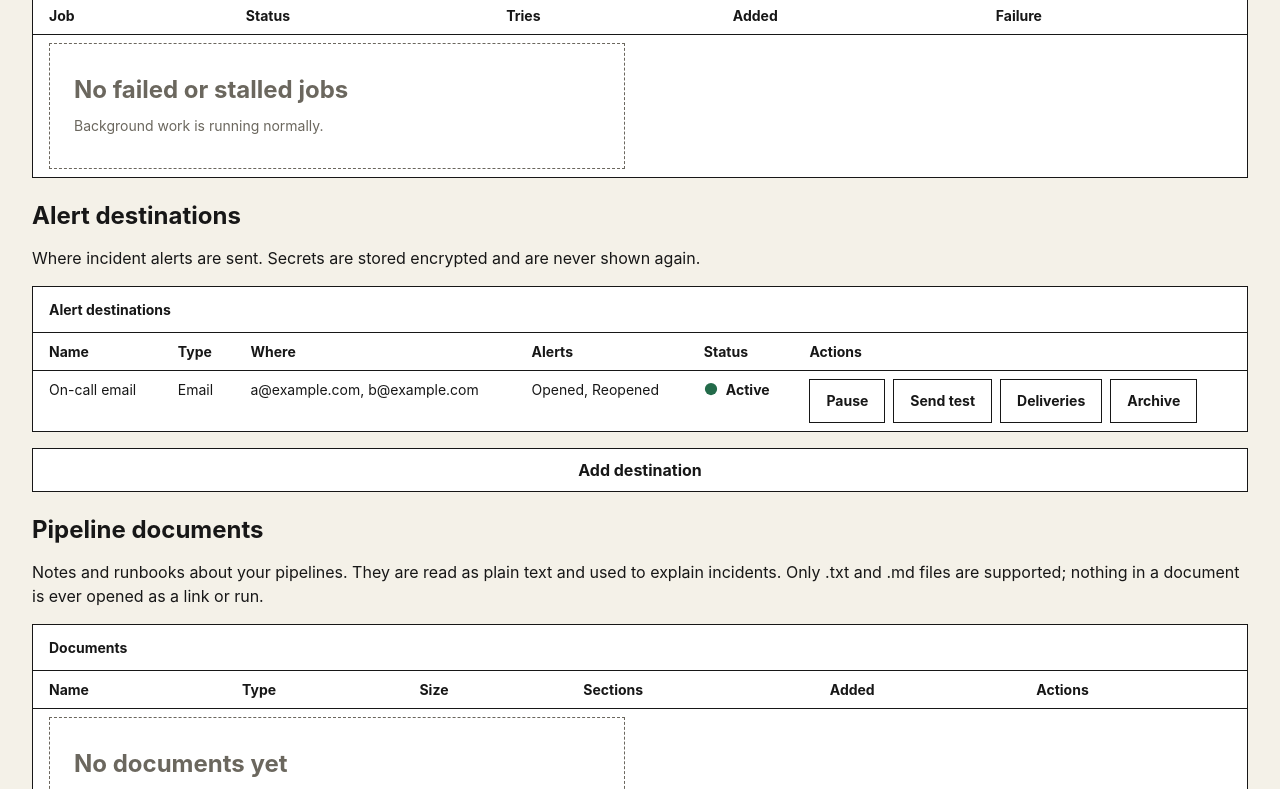
Alert destinations › explains a test sent too soon
(page scrolled)
Click the button with aria-label "Send test to On-call email": point(943, 401) left=893, top=379, right=992, bottom=423
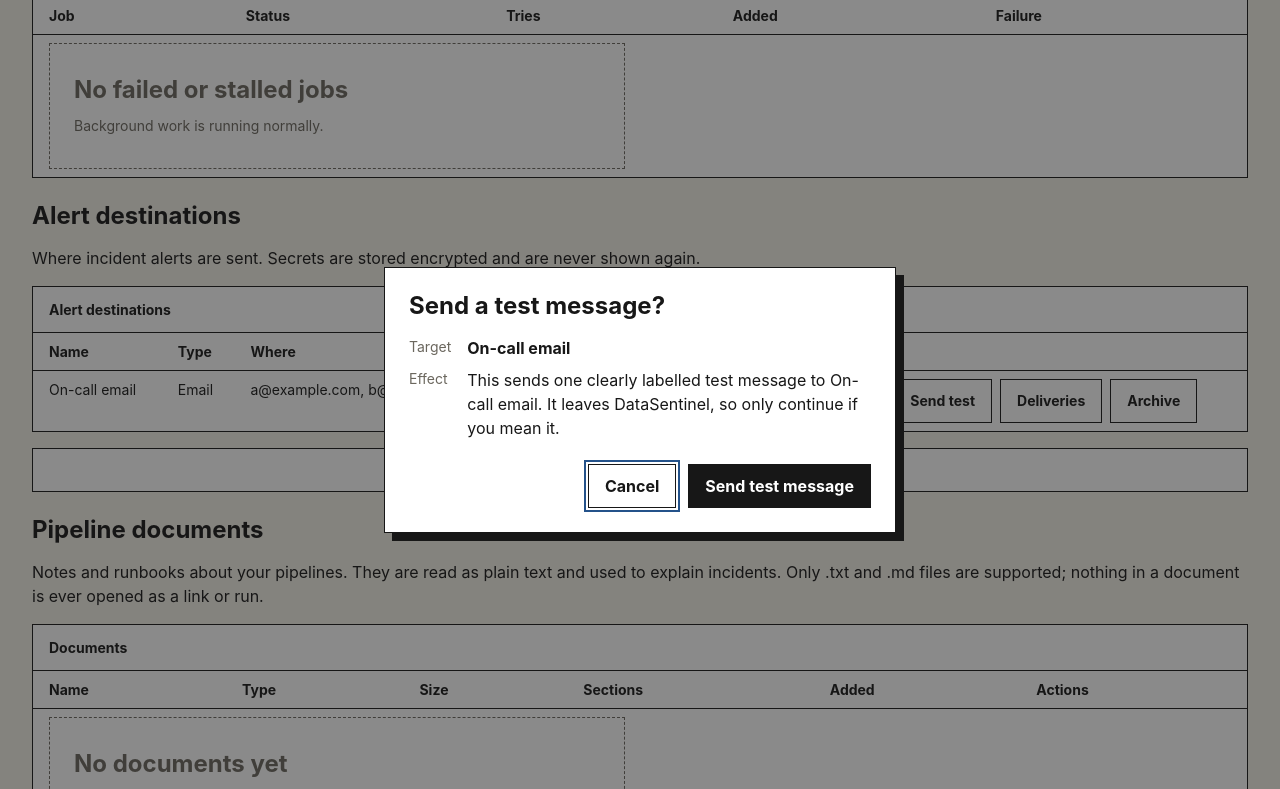
Click the button "Send test message": point(780, 486) left=688, top=464, right=871, bottom=508
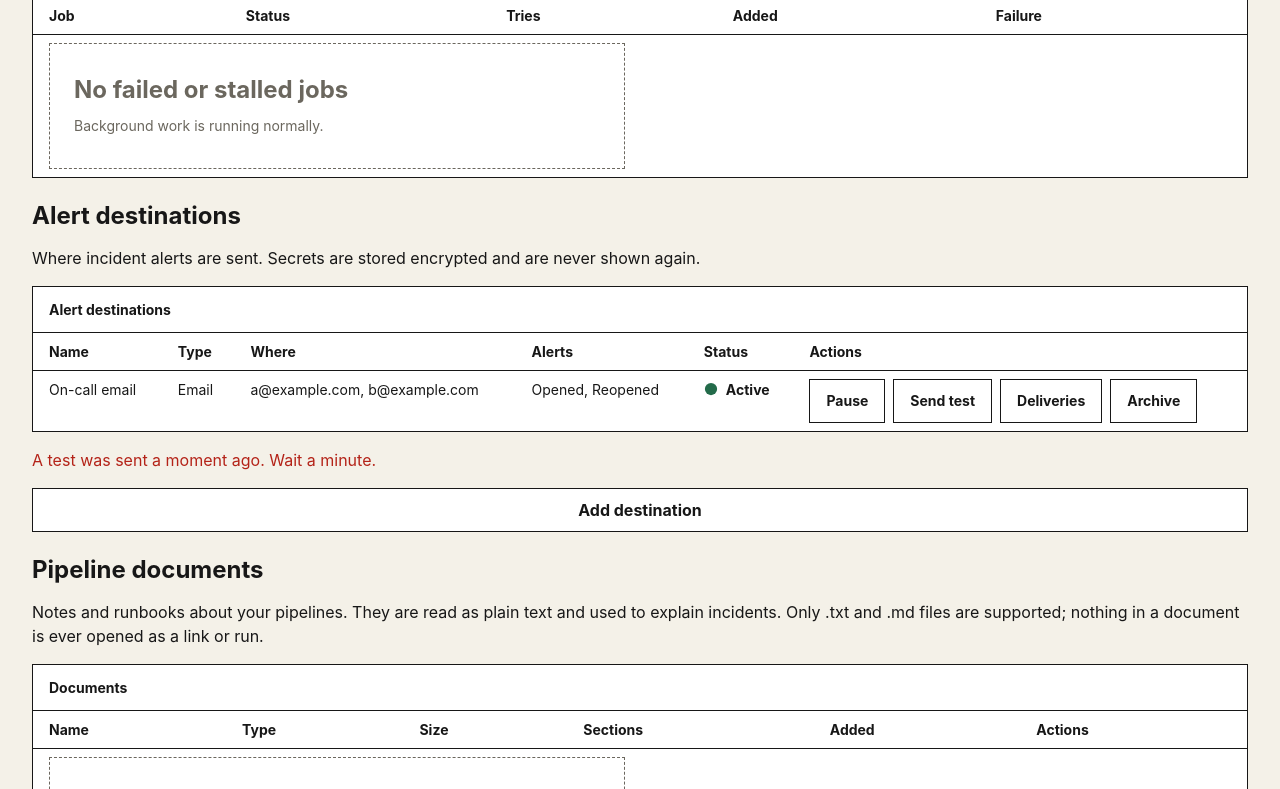
Expected: the text "A test was sent a moment ago. Wait a minute." is shown, left=32, top=450, right=376, bottom=470
